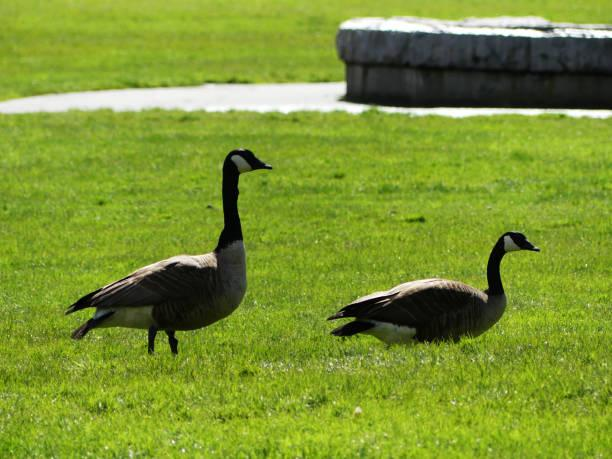Canadian-Goose: (74, 148, 275, 355), (326, 227, 537, 341)
